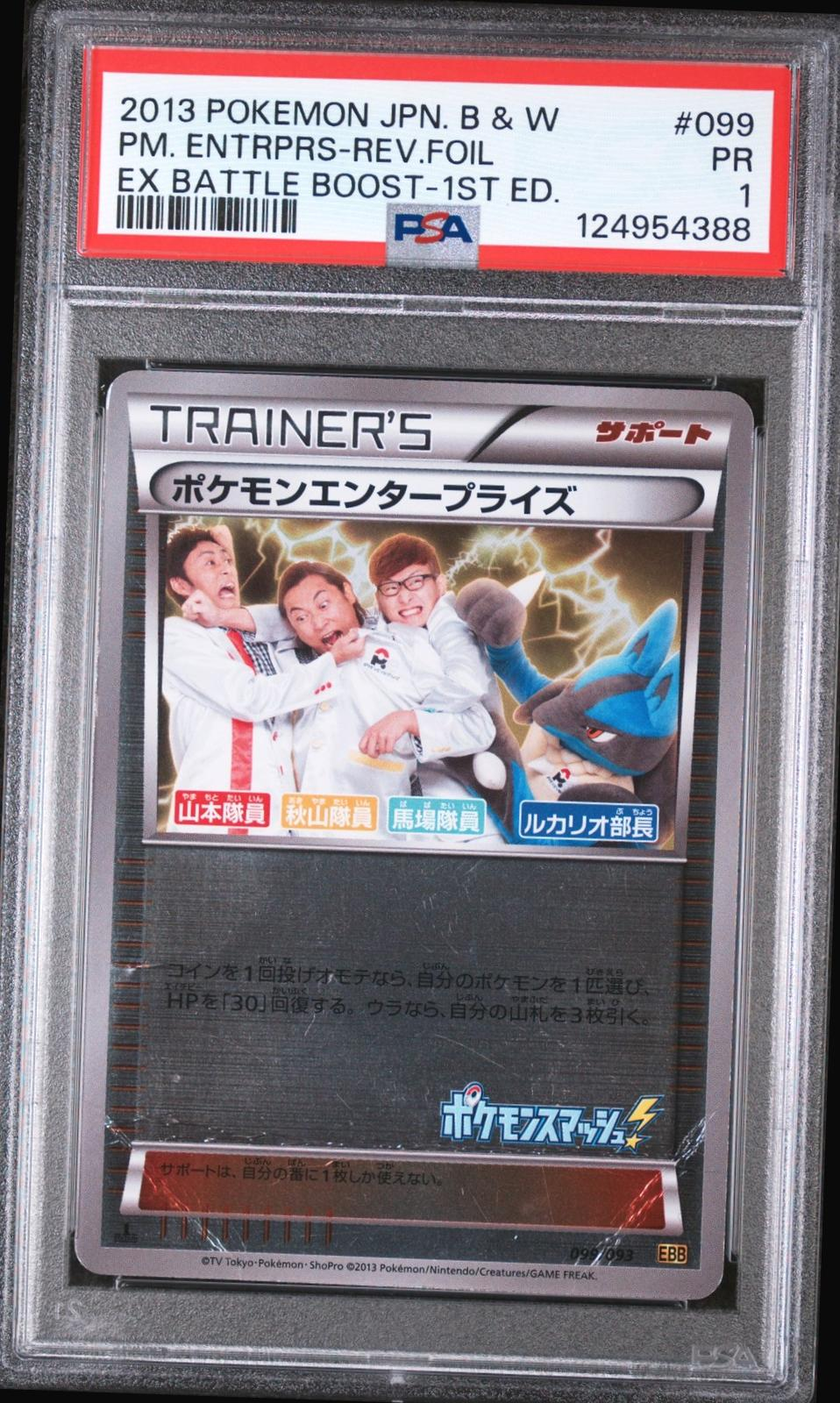card-2UtV: (73, 369, 754, 1299)
